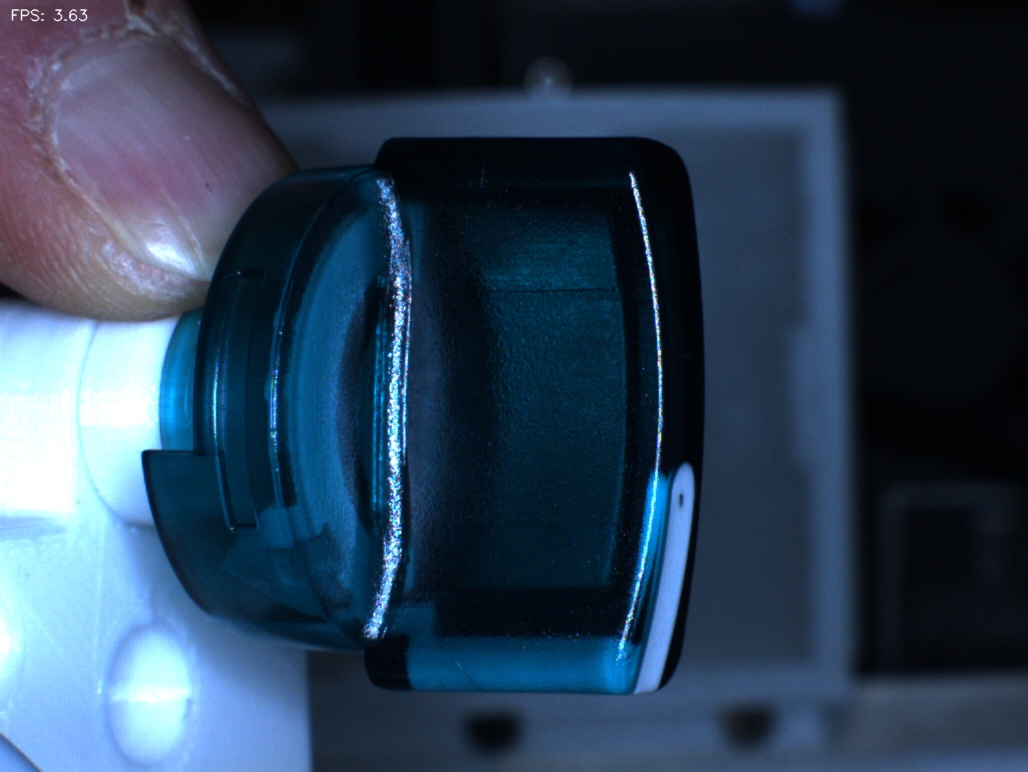PointNoir: (623, 432, 735, 552)
